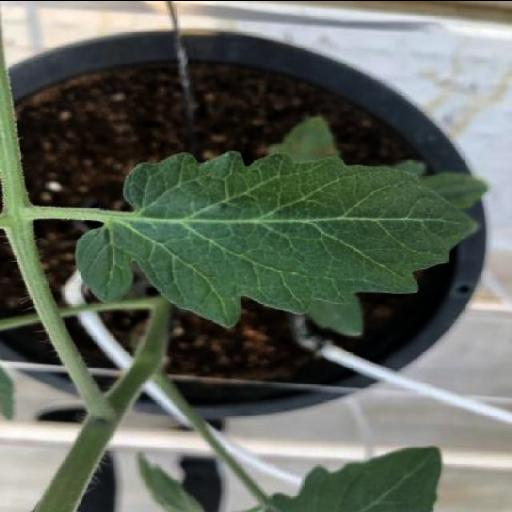Healthy: (75, 150, 474, 326)
